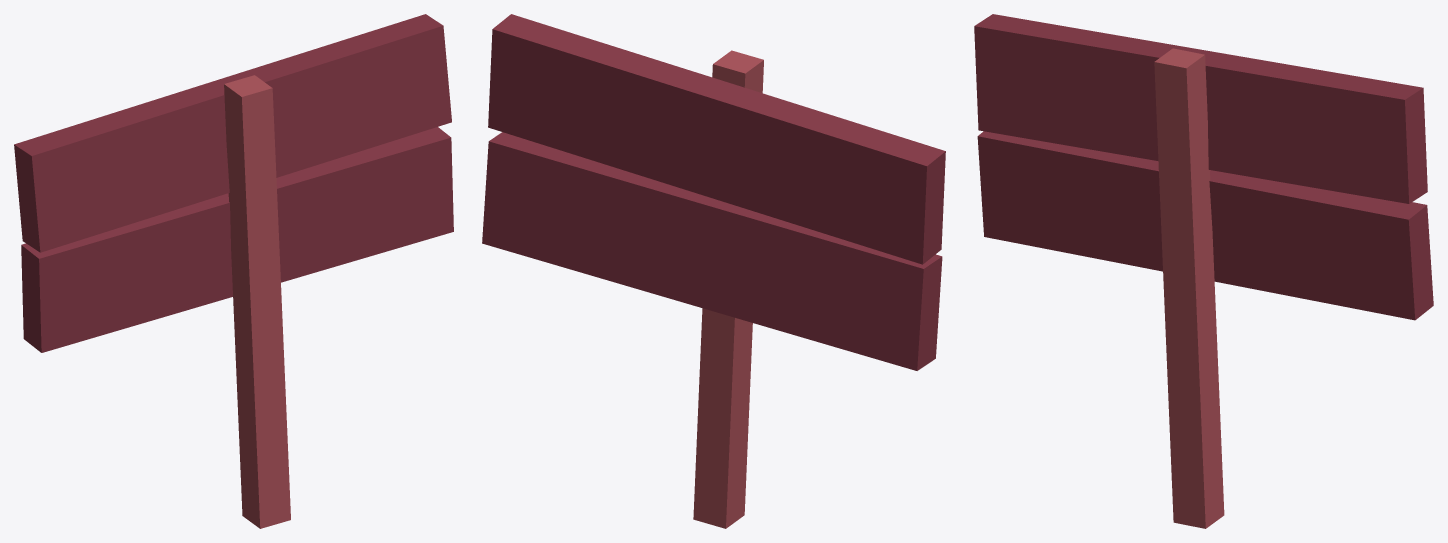
The model's file is sign.glb.
3 views of the same model, side by side, from view 1: azimuth 30°, elevation 25°; view 2: azimuth 150°, elevation 25°; view 3: azimuth 330°, elevation 25° (orthographic). The views are drawn at different scales.
Visible parts, largest first — view 1: Cube.001, Cube; view 2: Cube.001, Cube; view 3: Cube.001, Cube.
Boxes of the visible parts, left/top/right/bottom form: Cube.001: left=14, top=14, right=453, bottom=352; Cube: left=224, top=75, right=290, bottom=528; Cube.001: left=482, top=14, right=945, bottom=370; Cube: left=693, top=50, right=763, bottom=528; Cube.001: left=974, top=14, right=1433, bottom=320; Cube: left=1154, top=48, right=1224, bottom=528.
Bounding box in the file's own units: 2.74 × 2.73 × 0.414.
Materials: 1 (1 with a texture image).
